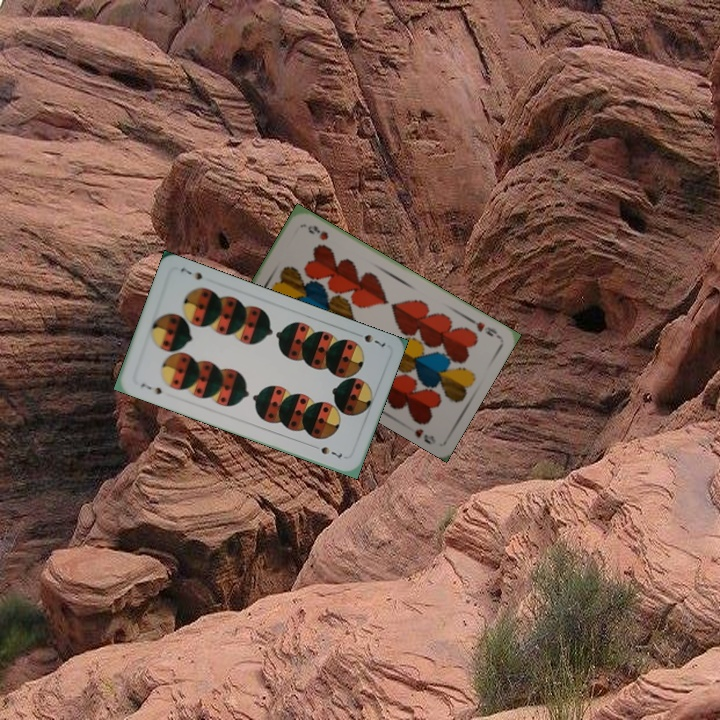H9: (465, 314, 502, 341)
S7: (360, 330, 388, 349), (137, 379, 165, 397)
